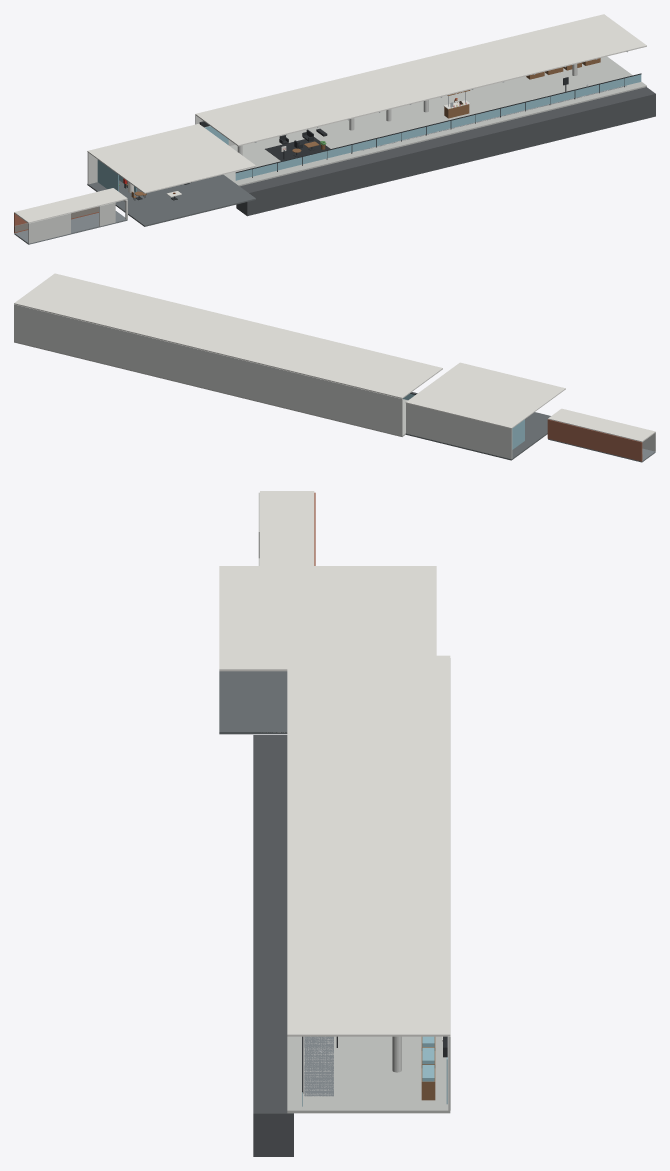
The picture shows the model from 3 angles, top to bottom: view 1: azimuth 30°, elevation 25°; view 2: azimuth 150°, elevation 25°; view 3: azimuth 270°, elevation 25°; orthographic projection. The views are drawn at different scales.
Visible parts, largest first — view 1: S03_ceiling, S03_lower_level, S03_floor, S02_ceiling, S02_floor, S03_railing_glass, S01_ceiling, S01_left_wall_A, S01_floor, S03_railing_top, S03_lounge_rug, S02_window_-14.6 (+2 smaller); view 2: S03_ceiling, S03_store_wall, S02_ceiling, S02_back_wall, S01_brick_wall, S01_ceiling, S02_floor, S03_floor; view 3: S03_ceiling, S02_ceiling, S03_lower_level, S03_floor, S02_floor, S01_ceiling, S03_balcony_carpet.
Part boxes in pixels (left/top/right/bottom): S03_ceiling: left=195, top=14, right=646, bottom=146; S03_lower_level: left=236, top=87, right=655, bottom=216; S03_floor: left=224, top=56, right=646, bottom=186; S02_ceiling: left=87, top=123, right=255, bottom=193; S02_floor: left=87, top=174, right=255, bottom=226; S03_railing_glass: left=235, top=74, right=641, bottom=180; S01_ceiling: left=14, top=188, right=127, bottom=223; S01_left_wall_A: left=28, top=213, right=70, bottom=243; S01_floor: left=14, top=211, right=127, bottom=244; S03_railing_top: left=235, top=73, right=641, bottom=172; S03_lounge_rug: left=265, top=137, right=330, bottom=160; S02_window_-14.6: left=97, top=160, right=118, bottom=191; S03_ceiling: left=14, top=273, right=442, bottom=398; S03_store_wall: left=14, top=304, right=402, bottom=435; S02_ceiling: left=405, top=362, right=565, bottom=428; S02_back_wall: left=406, top=403, right=512, bottom=459; S01_brick_wall: left=547, top=419, right=642, bottom=461; S01_ceiling: left=548, top=408, right=655, bottom=442; S02_floor: left=405, top=412, right=550, bottom=460; S03_floor: left=14, top=341, right=407, bottom=436; S03_ceiling: left=287, top=655, right=450, bottom=1036; S02_ceiling: left=219, top=566, right=436, bottom=671; S03_lower_level: left=253, top=735, right=293, bottom=1156; S03_floor: left=287, top=1036, right=450, bottom=1113; S02_floor: left=219, top=671, right=287, bottom=734; S01_ceiling: left=260, top=491, right=314, bottom=565; S03_balcony_carpet: left=304, top=1036, right=333, bottom=1096.
Bounding box in the file's own units: 101 × 9.94 × 17.04.
